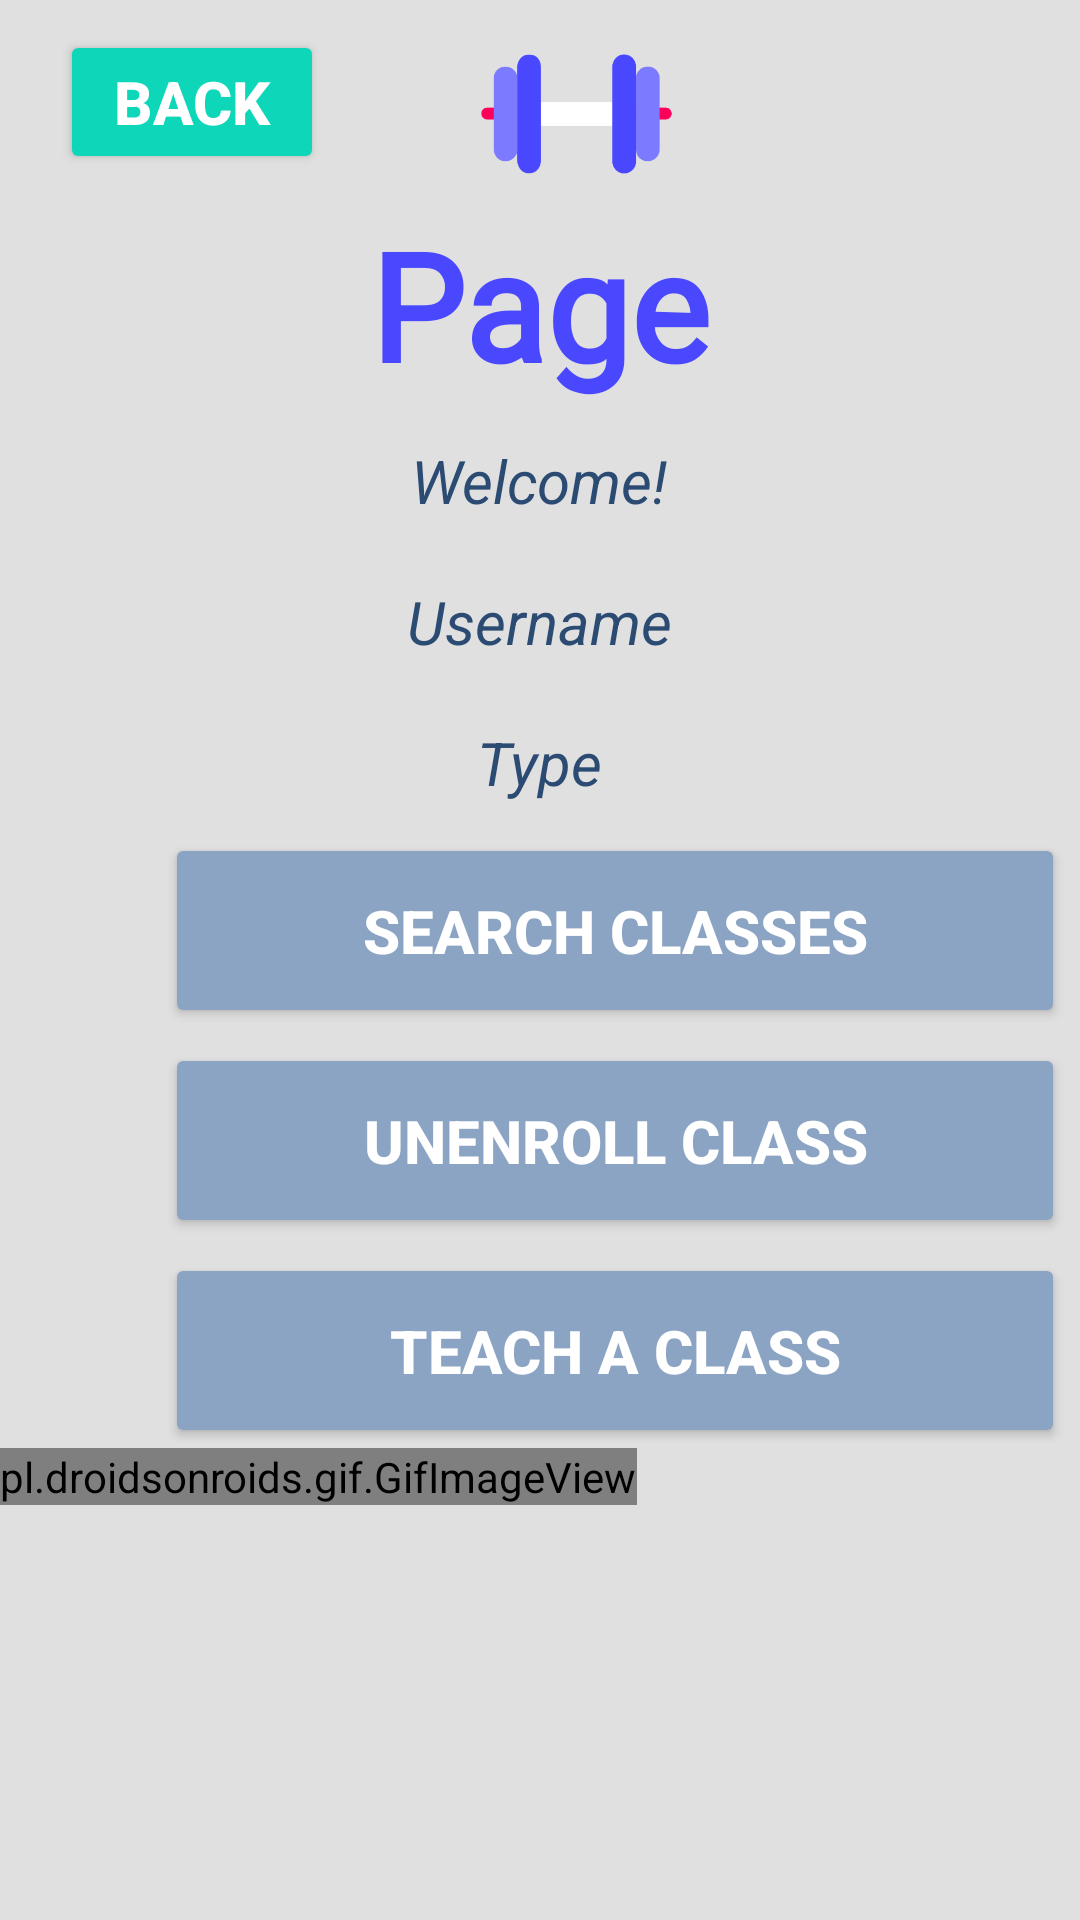

Screen size 1080 × 1920. Icon name, then its box in pixels as (x1, y1, x2, y2):
dumbell purp: (481, 54, 672, 174)
